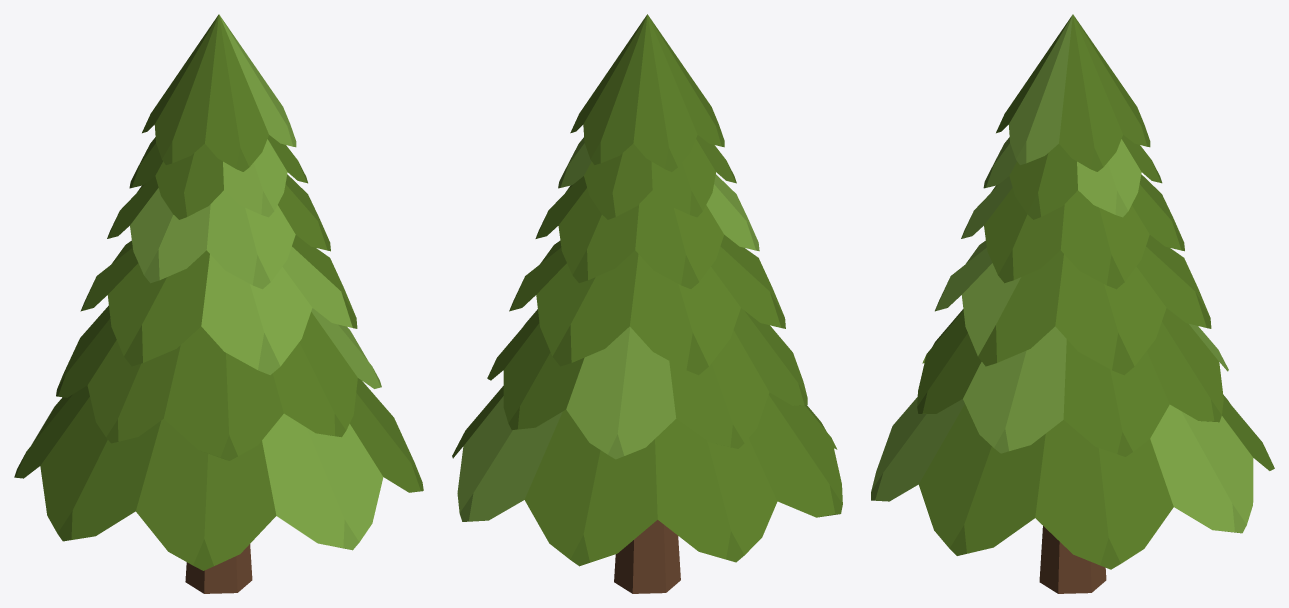
File: intro-tree-a.glb
The picture shows the model from 3 angles, left to right: view 1: azimuth 30°, elevation 25°; view 2: azimuth 150°, elevation 25°; view 3: azimuth 270°, elevation 25°; orthographic projection.
Visible parts, largest first — view 1: Tree1; view 2: Tree1; view 3: Tree1.
Part boxes in pixels (<box>): Tree1: <box>14,14,423,593</box>; Tree1: <box>452,14,842,593</box>; Tree1: <box>871,14,1274,593</box>.
Bounding box in the file's own units: 1.73 × 2.69 × 1.73.
